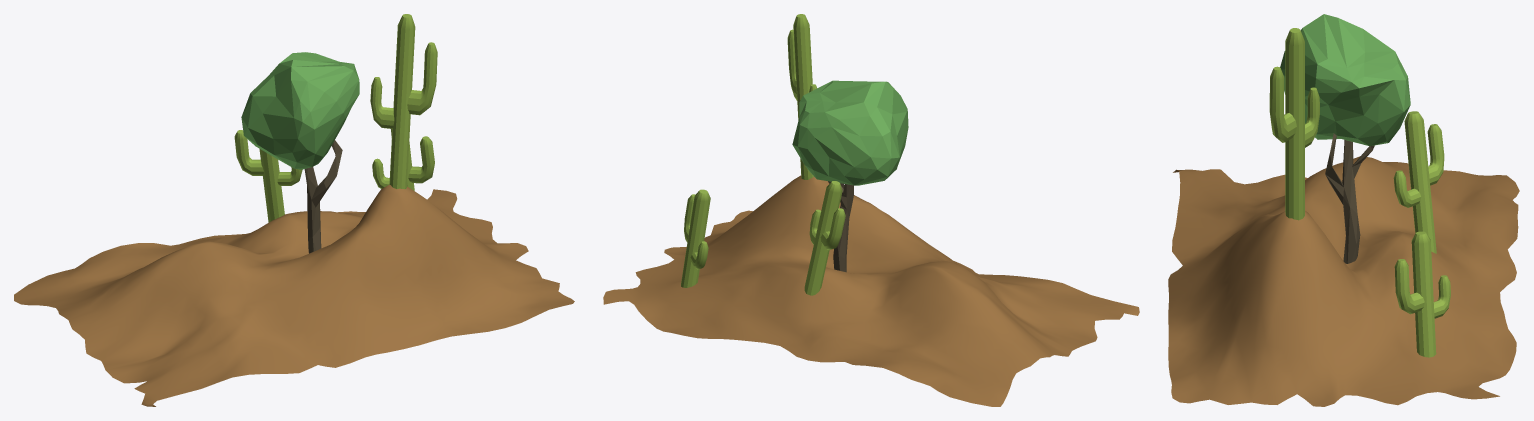
The model's file is midground2.fbx.
3 renders of one model, left to right at view 1: azimuth 30°, elevation 25°; view 2: azimuth 150°, elevation 25°; view 3: azimuth 270°, elevation 25°, orthographic. The views are drawn at different scales.
Visible parts, largest first — view 1: pasted__pPlane18; view 2: pasted__pPlane18; view 3: pasted__pPlane18.
Boxes of the visible parts, x1,y1,x2,y2 form: pasted__pPlane18: (14,14,574,406); pasted__pPlane18: (603,14,1139,406); pasted__pPlane18: (1168,14,1519,406).
Bounding box in the file's own units: 398 × 248 × 243.
